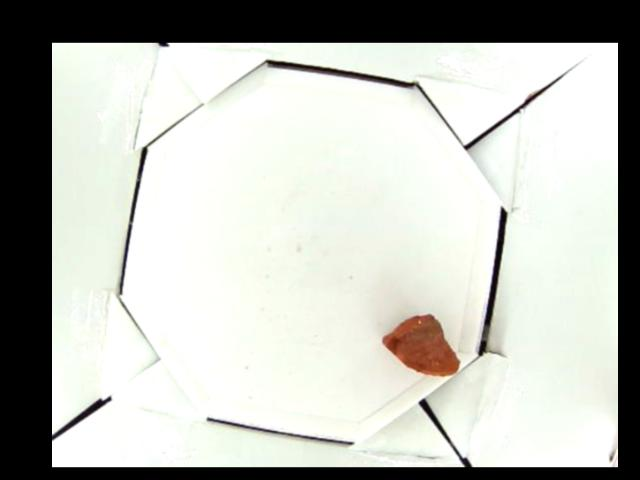Brisk: (380, 314, 462, 377)
